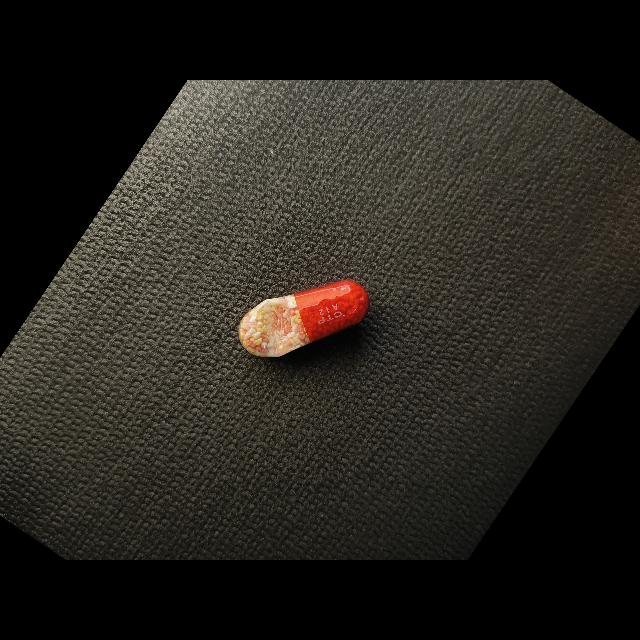Defective Capsule: (238, 280, 370, 357)
